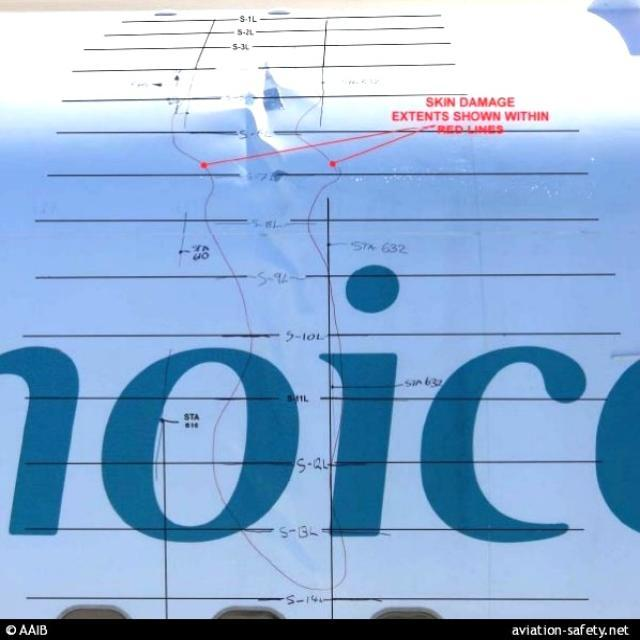dent: (196, 104, 292, 182), (247, 228, 322, 308)
